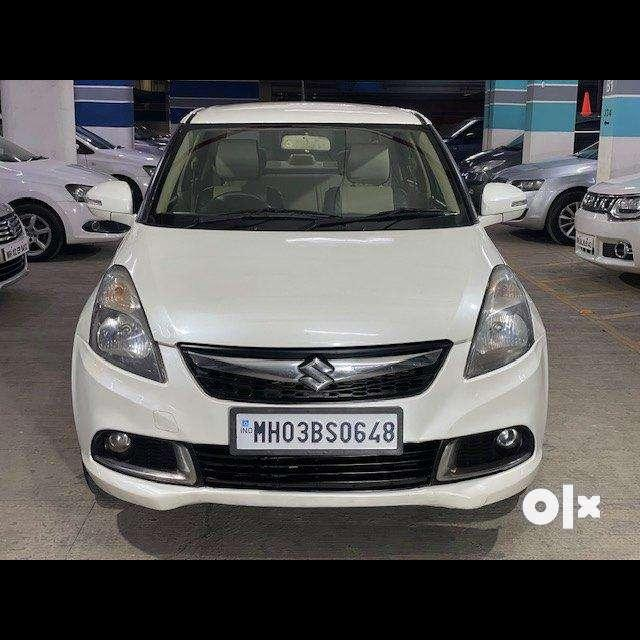Indian_Number_Plate: (230, 410, 402, 454)
